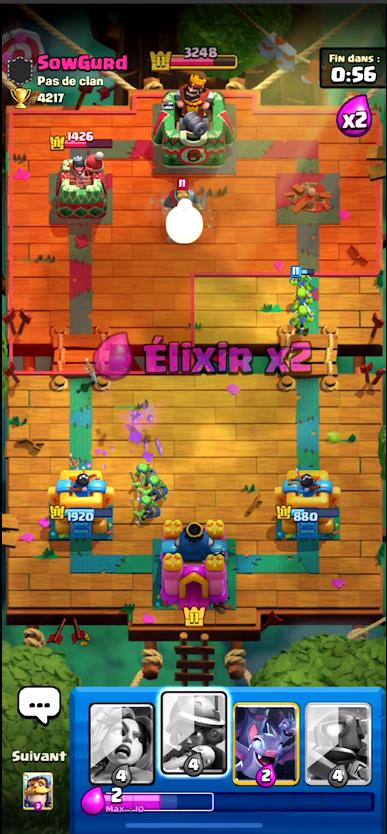chevalier: (166, 172, 210, 207)
gobelin: (289, 307, 315, 331), (288, 267, 314, 290), (293, 285, 313, 307)
gobelin_lances: (135, 495, 160, 520), (145, 472, 165, 501), (133, 460, 151, 485)
